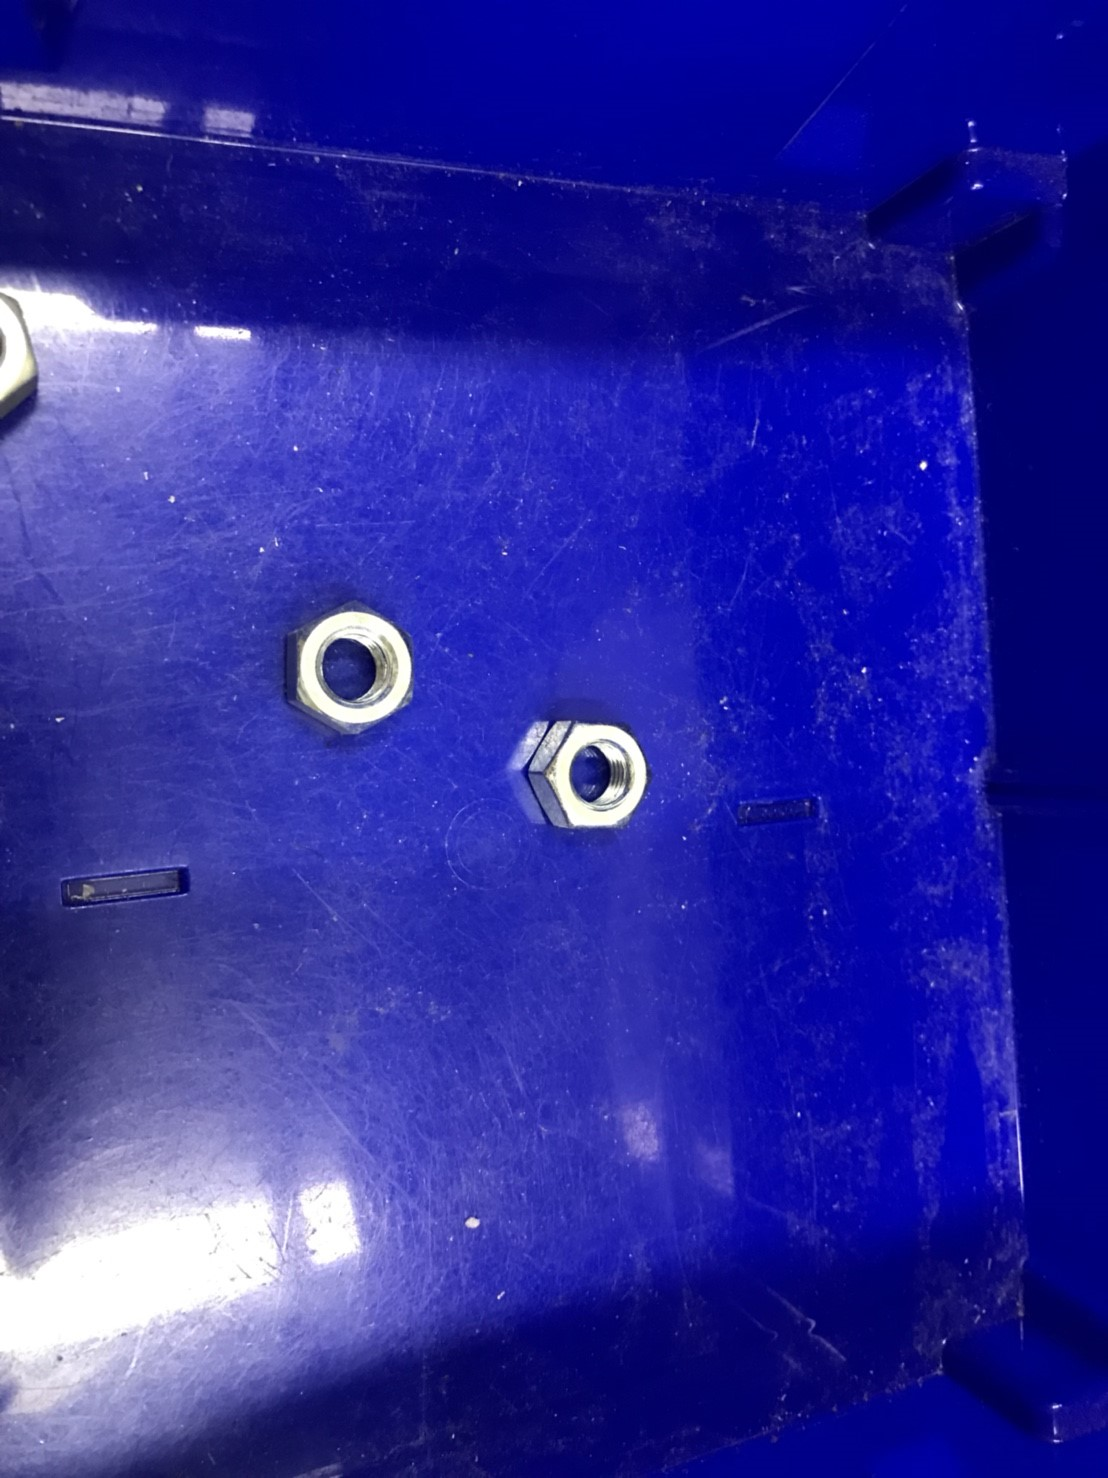nut: (292, 602, 419, 734), (530, 715, 651, 843)
